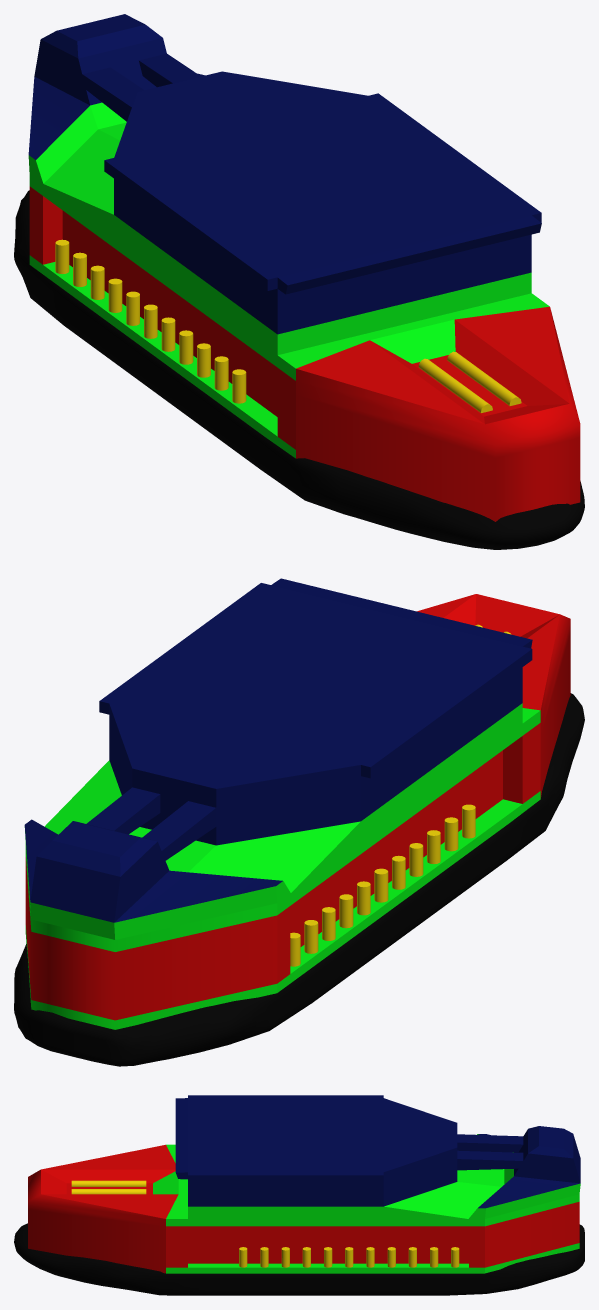
File: lower_ship.FBX
3 renders of one model, top to bottom at view 1: azimuth 30°, elevation 25°; view 2: azimuth 150°, elevation 25°; view 3: azimuth 270°, elevation 25°, orthographic. The views are drawn at different scales.
Visible parts, largest first — view 1: ship, low_ship, Box001, Box002, Cylinder032, Cylinder033; view 2: ship, low_ship, Box001, Box002; view 3: ship, low_ship, Box001, Box002, Cylinder032, Cylinder033.
Boxes of the visible parts, x1,y1,x2,y2 form: ship: (28, 14, 541, 334); low_ship: (29, 186, 580, 521); Box001: (28, 102, 549, 458); Box002: (14, 190, 584, 549); Cylinder032: (418, 358, 492, 413); Cylinder033: (447, 351, 521, 405); ship: (24, 578, 532, 922); low_ship: (25, 594, 570, 1020); Box001: (24, 703, 540, 1029); Box002: (14, 693, 584, 1066); ship: (175, 1095, 580, 1208); low_ship: (28, 1144, 579, 1273); Box001: (153, 1134, 580, 1273); Box002: (14, 1223, 584, 1295); Cylinder032: (71, 1180, 146, 1186); Cylinder033: (71, 1189, 146, 1194).
Size of the model in its own units: 44.37 by 32.84 by 134.
